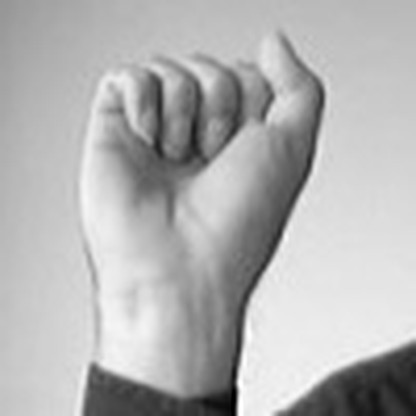a: (65, 23, 334, 286)
